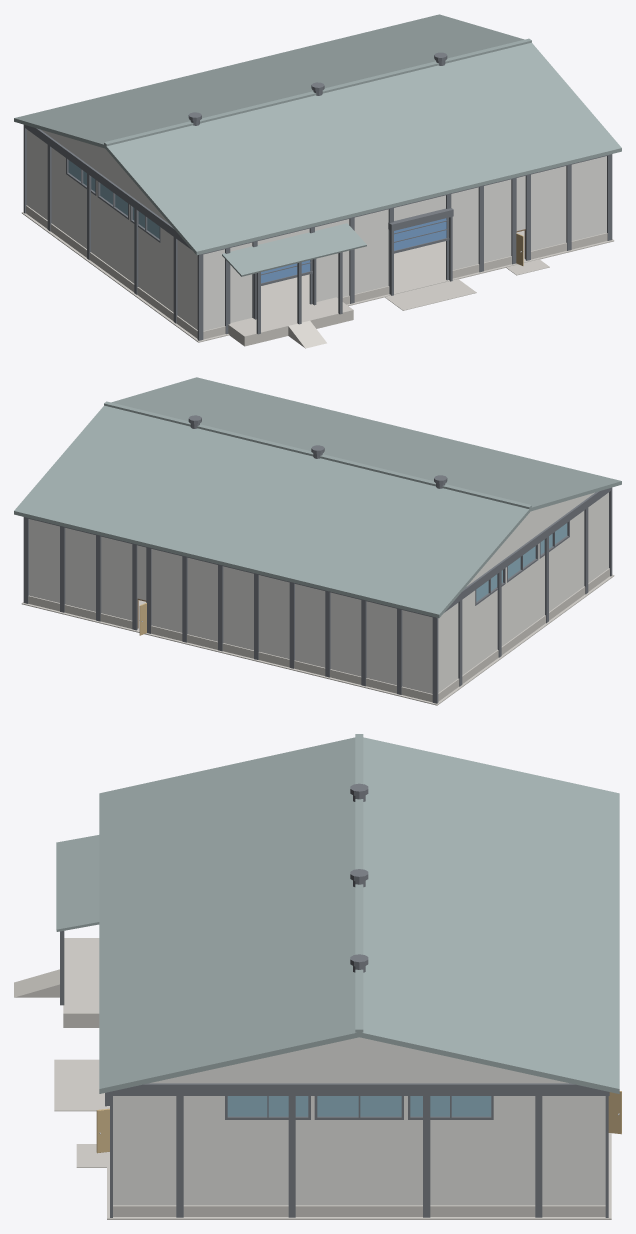
3 renders of one model, top to bottom at view 1: azimuth 30°, elevation 25°; view 2: azimuth 150°, elevation 25°; view 3: azimuth 270°, elevation 25°, orthographic. The views are drawn at different scales.
Visible parts, largest first — view 1: 屋顶_南坡.001, 屋顶_北坡.001, 外墙_南_6_0.001, 地台, 外墙_南_4_0.003, 外墙_南_2_0.003, 月台雨棚, 外墙_南_0_0.003, 月台, 外墙_西_0_0.003, 外墙_西_6_0, 屋顶_脊瓦.001 (+22 smaller); view 2: 屋顶_北坡.001, 屋顶_南坡.001, 外墙_北_0_0.003, 外墙_北_2_0.003, 外墙_西_6_0, 外墙_西_0_0.003, 墙裙_北_1, 屋顶_脊瓦.001, 山墙_西.001, 地台, 外墙_西_3_0, 檐口_西 (+18 smaller); view 3: 屋顶_北坡.001, 屋顶_南坡.001, 外墙_东_6_0, 外墙_东_0_0.003, 山墙_东.001, 外墙_东_3_0, 外墙_东_1_0.003, 外墙_东_5_0, 檐口_东, 墙裙_东.003, 月台雨棚, 月台 (+16 smaller).
Part boxes in pixels (left/top/right/bottom): 屋顶_南坡.001: left=105, top=42, right=621, bottom=255; 屋顶_北坡.001: left=14, top=14, right=524, bottom=148; 外墙_南_6_0.001: left=531, top=156, right=606, bottom=250; 地台: left=21, top=212, right=614, bottom=342; 外墙_南_4_0.003: left=451, top=179, right=511, bottom=270; 外墙_南_2_0.003: left=315, top=209, right=388, bottom=301; 月台雨棚: left=222, top=223, right=366, bottom=276; 外墙_南_0_0.003: left=203, top=242, right=252, bottom=330; 月台: left=228, top=297, right=353, bottom=346; 外墙_西_0_0.003: left=160, top=227, right=197, bottom=329; 外墙_西_6_0: left=29, top=131, right=66, bottom=234; 屋顶_脊瓦.001: left=104, top=38, right=531, bottom=146; 屋顶_北坡.001: left=14, top=405, right=530, bottom=617; 屋顶_南坡.001: left=111, top=377, right=621, bottom=511; 外墙_北_0_0.003: left=151, top=549, right=432, bottom=693; 外墙_北_2_0.003: left=29, top=519, right=132, bottom=620; 外墙_西_6_0: left=438, top=590, right=475, bottom=692; 外墙_西_0_0.003: left=569, top=494, right=606, bottom=596; 墙裙_北_1: left=151, top=625, right=432, bottom=702; 屋顶_脊瓦.001: left=104, top=401, right=531, bottom=508; 山墙_西.001: left=466, top=492, right=594, bottom=586; 地台: left=21, top=574, right=614, bottom=705; 外墙_西_3_0: left=507, top=561, right=537, bottom=641; 檐口_西: left=434, top=488, right=610, bottom=618; 屋顶_北坡.001: left=359, top=737, right=619, bottom=1093; 屋顶_南坡.001: left=99, top=737, right=359, bottom=1093; 外墙_东_6_0: left=491, top=1096, right=599, bottom=1205; 外墙_东_0_0.003: left=119, top=1096, right=226, bottom=1205; 山墙_东.001: left=150, top=1037, right=568, bottom=1083; 外墙_东_3_0: left=316, top=1120, right=401, bottom=1205; 外墙_东_1_0.003: left=227, top=1120, right=308, bottom=1205; 外墙_东_5_0: left=410, top=1120, right=491, bottom=1205; 檐口_东: left=109, top=1083, right=609, bottom=1095; 墙裙_东.003: left=113, top=1205, right=605, bottom=1216; 月台雨棚: left=56, top=835, right=99, bottom=931; 月台: left=63, top=938, right=99, bottom=1027.
Bounding box in the file's own units: 3120 × 996 × 2711.
